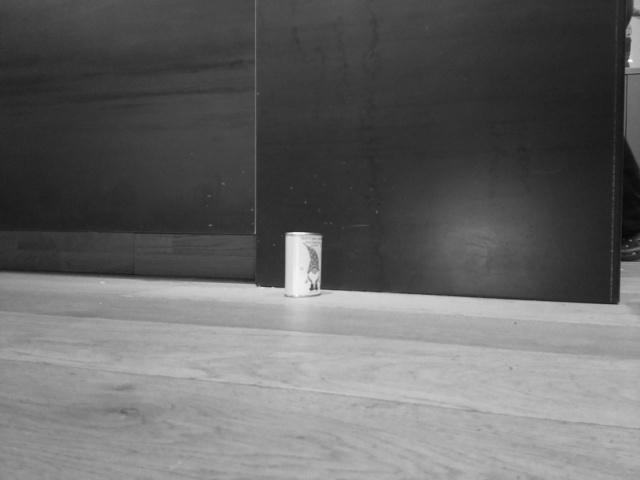gnome: (299, 242, 323, 294)
